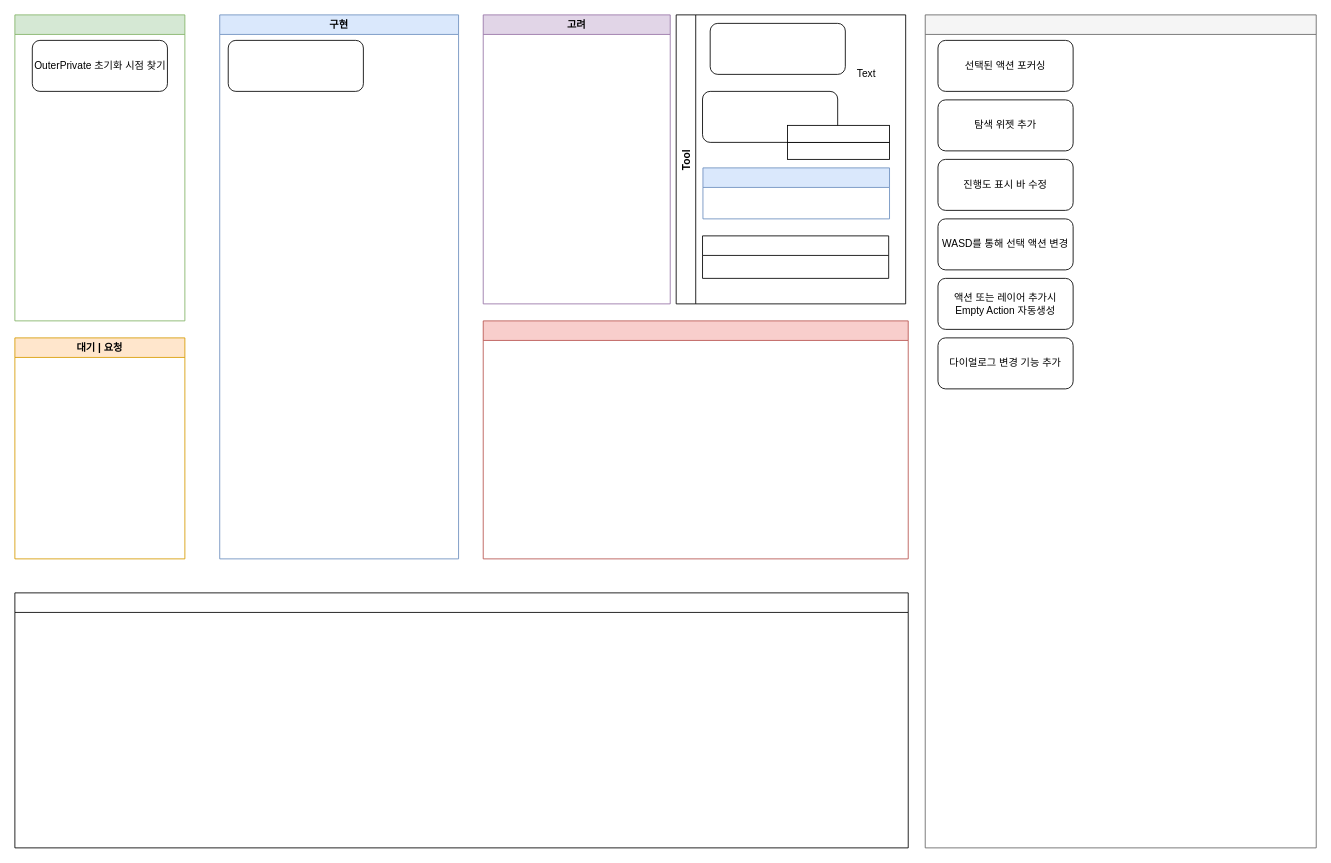
The diagram is 1331 pixels wide and 863 high, and some of its shapes have lost their labels. The shapes that lost their labels are listed below. From the top down, each one's box as (x1, y1, x2, y2) in pixels, then its label:
(227, 40, 363, 91): DialogueBaseWidget에 있는 프로젝트 의존적인 코드 이동 시킬 것
(14, 14, 185, 321): 분석 | 논의
(482, 320, 908, 559): 에러
(924, 14, 1316, 848): 폐기 | 완료
(14, 592, 908, 848): My Commit
